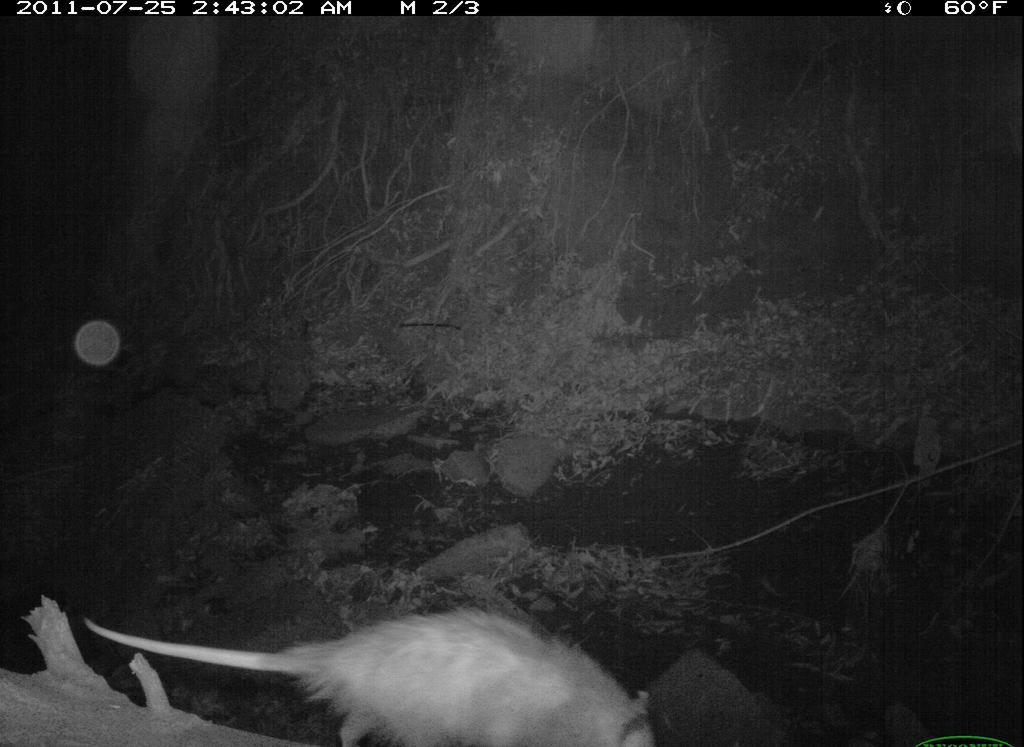opossum: (82, 585, 667, 747)
